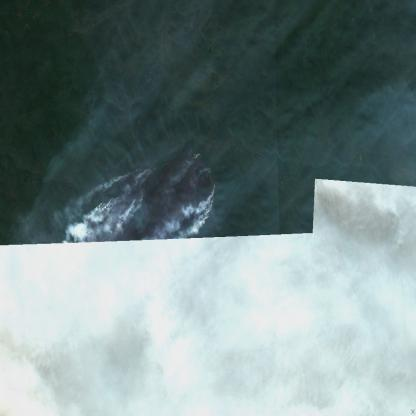fire: (75, 146, 218, 245)
